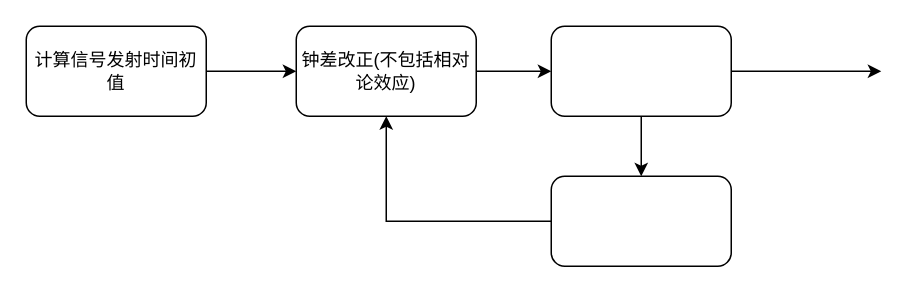
Image size: 920x293. Some labels were removed from this diagram. The centre of each missing label's shape, as x and y in pixels:
"卫星位置计算，并在钟差上加入相对论效应改正" goes at (x=640, y=70).
"计算信号发射时间" goes at (x=640, y=220).
